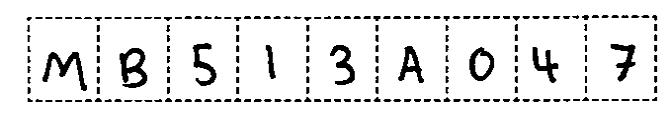0: (460, 43, 502, 85)
1: (252, 42, 289, 84)
3: (324, 40, 366, 88)
4: (525, 39, 566, 87)
5: (184, 36, 223, 89)
7: (601, 38, 643, 82)
A: (393, 44, 431, 88)
B: (114, 44, 153, 91)
M: (39, 46, 92, 96)
